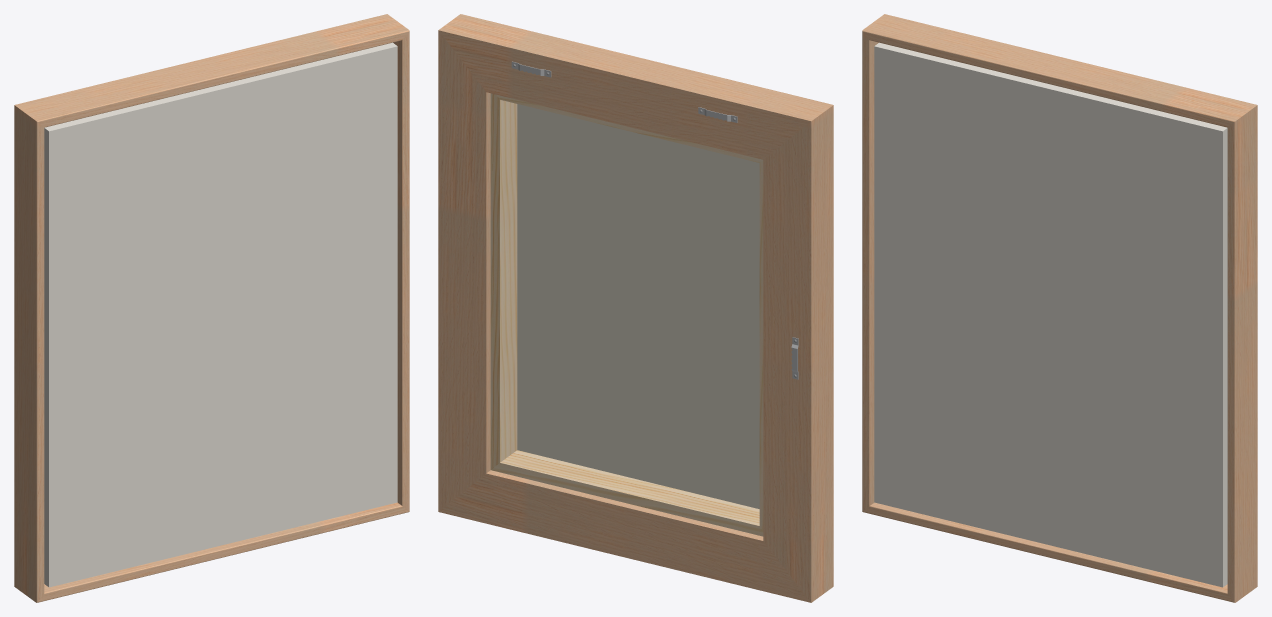
File: decoded-from-delivery.glb
3 views of the same model, side by side, from view 1: azimuth 30°, elevation 25°; view 2: azimuth 150°, elevation 25°; view 3: azimuth 330°, elevation 25° (orthographic).
Parts seen in each view (by area): view 1: Canvas artwork front, Tray approved profile 0; view 2: Tray approved profile 0, Canvas linen reverse, Stretcher top, Sawtooth hanger 0; view 3: Canvas artwork front, Tray approved profile 0.
Part boxes in pixels (x1,y1,x2,y2): Canvas artwork front: [44, 42, 397, 587]; Tray approved profile 0: [14, 14, 409, 602]; Tray approved profile 0: [438, 14, 833, 602]; Canvas linen reverse: [517, 104, 759, 508]; Stretcher top: [490, 93, 763, 536]; Sawtooth hanger 0: [511, 61, 798, 379]; Canvas artwork front: [874, 42, 1227, 587]; Tray approved profile 0: [862, 14, 1257, 602].
Size of the model in its own units: 0.428 by 0.528 by 0.0474.
7 materials, 3 textured.
